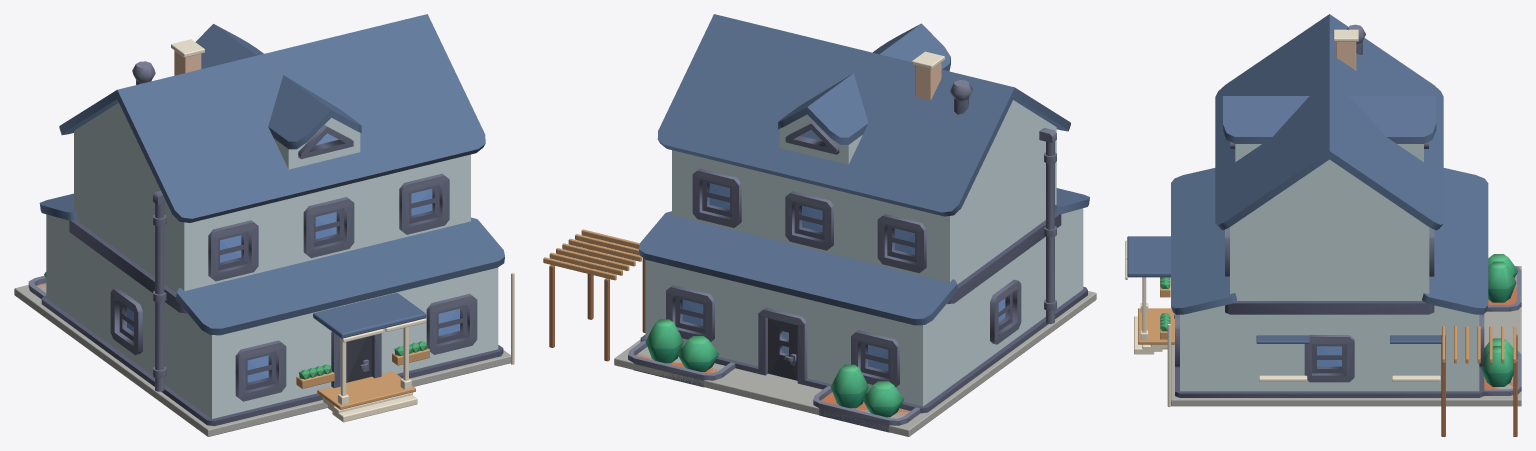
The model's file is house_bluebell.glb.
The picture shows the model from 3 angles, left to right: view 1: azimuth 30°, elevation 25°; view 2: azimuth 150°, elevation 25°; view 3: azimuth 270°, elevation 25°; orthographic projection. The views are drawn at different scales.
Visible parts, largest first — view 1: house_bluebell_Mesh; view 2: house_bluebell_Mesh; view 3: house_bluebell_Mesh.
Part boxes in pixels (x1,y1,x2,y2): house_bluebell_Mesh: (14, 14, 514, 436); house_bluebell_Mesh: (543, 14, 1096, 436); house_bluebell_Mesh: (1125, 14, 1521, 436).
Bounding box in the file's own units: 12.96 × 9.65 × 12.71.
